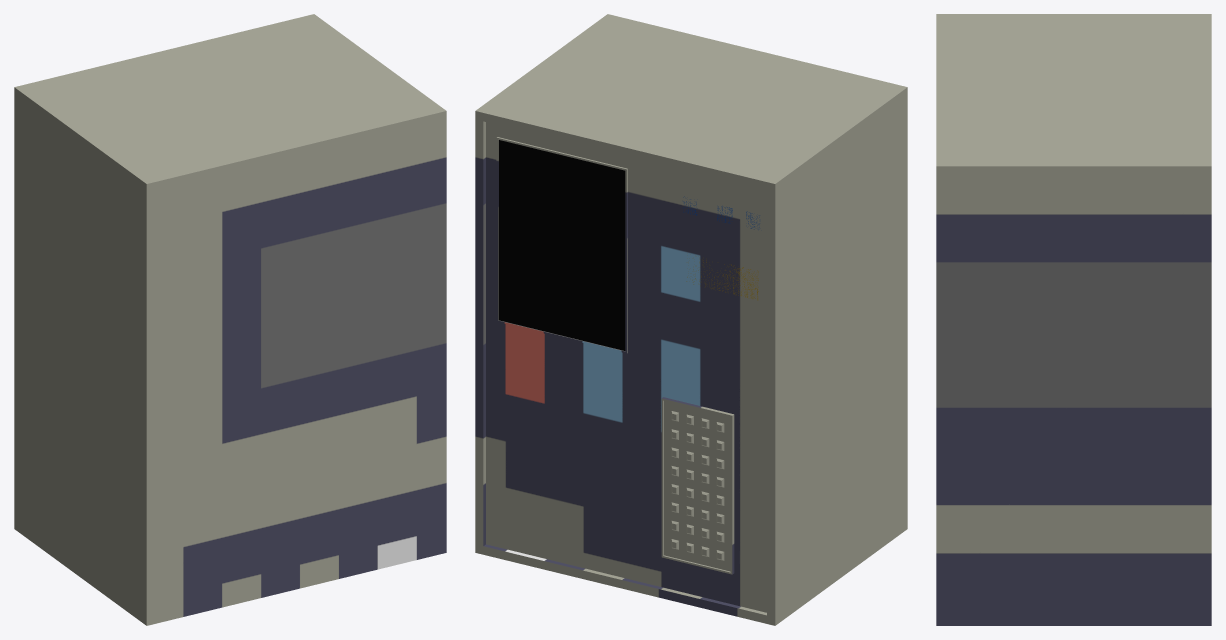
File: Machine2.FBX
The picture shows the model from 3 angles, left to right: view 1: azimuth 30°, elevation 25°; view 2: azimuth 150°, elevation 25°; view 3: azimuth 270°, elevation 25°; orthographic projection. The views are drawn at different scales.
Parts seen in each view (by area): view 1: machine2; view 2: machine2; view 3: machine2.
Part boxes in pixels (box(x1,y1,x2,y2)): machine2: box(14, 14, 446, 625); machine2: box(475, 14, 907, 625); machine2: box(936, 14, 1211, 625).
Bounding box in the file's own units: 4.67 × 6.58 × 3.58.
